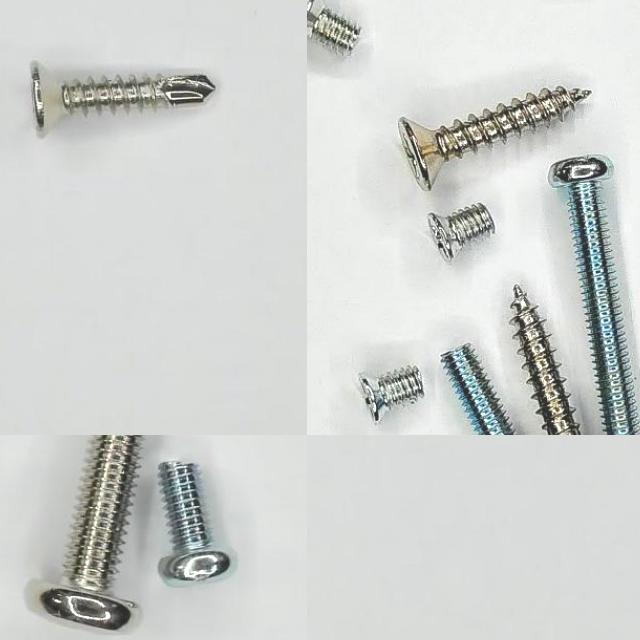Screw: (549, 156, 640, 435), (29, 435, 144, 631), (399, 86, 591, 190), (32, 61, 216, 135), (511, 285, 581, 435), (160, 462, 231, 582), (443, 344, 516, 435), (427, 204, 495, 261), (359, 366, 424, 423), (307, 0, 360, 54)
